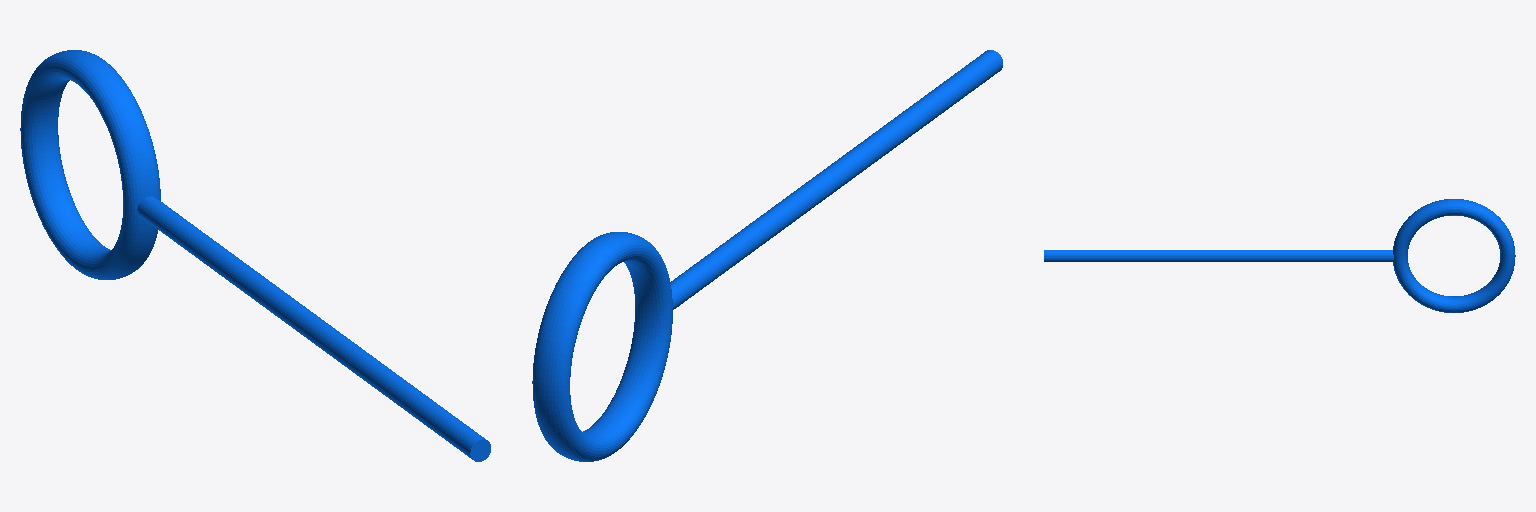
URDF robot description (ring):
<?xml version="0.0" ?>
<robot name="ring">
    <material name="blue">
        <color rgba="0.078431 0.494117 0.984313 1"/>
    </material>

    <link name="baseLink">
        <!-- from lego/lego.urdf -->
        <contact>
            <lateral_friction value="1.0"/>
            <rolling_friction value="0.0"/>
            <contact_cfm value="0.0"/>
            <contact_erp value="1.0"/>
        </contact>
        <inertial>
            <origin rpy="0 0 0" xyz="0 0 0"/>
            <mass value="0.01"/>
            <inertia ixx="1" ixy="0" ixz="0" iyy="1" iyz="0" izz="1"/>
        </inertial>
        <visual>
            <origin rpy="0 0 0" xyz="0 0 0"/>
            <geometry>
                <!--        radius: 10mm, depth: 14.5mm-->
                <mesh filename="meshes/ring_cyl.obj" scale="1 1 1"/>
                <!--        <box size="0.002 0.002 0.002"/>-->
            </geometry>
            <material name="blue"/>
        </visual>
        <collision>
            <origin rpy="0 0 0" xyz="0 0 0"/>
            <geometry>
                <mesh filename="meshes/ring_cyl_vhacd.obj" scale="1 1 1"/>
                <!--        <box size="0.002 0.002 0.002"/>-->
            </geometry>
        </collision>
    </link>

    <!-- for testing get linkstate -->
    <link name="waypoint_0">
        <!--    origin-->
        <inertial>
            <origin rpy="0 0 0" xyz="0 0 0"/>
            <mass value=".0"/>
            <inertia ixx="0." ixy="0" ixz="0" iyy="0." iyz="0" izz="0."/>
        </inertial>
    </link>

    <joint name="waypoint_joint_0" type="fixed">
        <parent link="baseLink"/>
        <child link="waypoint_0"/>
        <origin rpy="0 0 0" xyz="0 0 0"/>
    </joint>

    <link name="waypoint_1">
        <!--    middle-->
        <inertial>
            <origin rpy="0 0 0" xyz="0 0 0"/>
            <mass value=".0"/>
            <inertia ixx="0." ixy="0" ixz="0" iyy="0." iyz="0" izz="0."/>
        </inertial>
        <!--    <visual>-->
        <!--      <origin rpy="0 0 0" xyz="0 0 0"/>-->
        <!--      <geometry>-->
        <!--        <box size="0.005 0.005 0.005"/>-->
        <!--      </geometry>-->
        <!--      <material name="grey"/>-->
        <!--    </visual>-->
    </link>

    <joint name="waypoint_joint_1" type="fixed">
        <parent link="baseLink"/>
        <child link="waypoint_1"/>
        <!--    (-R, 0, 0)-->
        <origin rpy="0 0 0" xyz="-0.02 0 0"/>
    </joint>

    <link name="waypoint_2">
        <!--    left-->
        <inertial>
            <origin rpy="0 0 0" xyz="0 0 0"/>
            <mass value=".0"/>
            <inertia ixx="0." ixy="0" ixz="0" iyy="0." iyz="0" izz="0."/>
        </inertial>
    </link>

    <joint name="waypoint_joint_2" type="fixed">
        <parent link="baseLink"/>
        <child link="waypoint_2"/>
        <!--    (-sqrt(2)R/2, -sqrt(2)R/2, 0)-->
        <origin rpy="0 0 0.785398" xyz="-0.0141421 -0.0141421 0"/>
    </joint>

    <link name="waypoint_3">
        <!--    right-->
        <inertial>
            <origin rpy="0 0 0" xyz="0 0 0"/>
            <mass value=".0"/>
            <inertia ixx="0." ixy="0" ixz="0" iyy="0." iyz="0" izz="0."/>
        </inertial>
    </link>

    <joint name="waypoint_joint_3" type="fixed">
        <parent link="baseLink"/>
        <child link="waypoint_3"/>
        <!--    (-sqrt(2)R/2, sqrt(2)R/2, 0)-->
        <origin rpy="0 0 -0.785398" xyz="-0.0141421 0.0141421 0"/>
    </joint>

    <link name="waypoint_4">
        <!--    left 60deg-->
        <inertial>
            <origin rpy="0 0 0" xyz="0 0 0"/>
            <mass value=".0"/>
            <inertia ixx="0." ixy="0" ixz="0" iyy="0." iyz="0" izz="0."/>
        </inertial>
    </link>

    <joint name="waypoint_joint_4" type="fixed">
        <parent link="baseLink"/>
        <child link="waypoint_4"/>
        <!--    -cos(60)*R, -sin(60)*R, 0)-->
        <origin rpy="0 0 1.047197" xyz="-0.0100000 -0.0173205 0"/>
    </joint>

    <link name="waypoint_5">
        <!--    right 60deg-->
        <inertial>
            <origin rpy="0 0 0" xyz="0 0 0"/>
            <mass value=".0"/>
            <inertia ixx="0." ixy="0" ixz="0" iyy="0." iyz="0" izz="0."/>
        </inertial>
    </link>

    <joint name="waypoint_joint_5" type="fixed">
        <parent link="baseLink"/>
        <child link="waypoint_5"/>
        <!--    -cos(60)*R, sin(60)*R, 0)-->
        <origin rpy="0 0 -1.047198" xyz="-0.0100000 0.0173205 0"/>
    </joint> 
</robot>

--- Render facts (derived) ---
Views: 3 orthographic renders of the robot side by side, from view 1: azimuth 30°, elevation 25°; view 2: azimuth 150°, elevation 25°; view 3: azimuth 270°, elevation 25°.
Model ring with 7 links and 6 joints (6 fixed), rooted at baseLink, posed every joint at zero.
Links seen in each view (by area): view 1: baseLink; view 2: baseLink; view 3: baseLink.
Link boxes in pixels (left/top/right/bottom): baseLink: left=20, top=50, right=490, bottom=461; baseLink: left=532, top=50, right=1002, bottom=461; baseLink: left=1044, top=199, right=1515, bottom=312.
Size in the robot's own frame: 0.2261 by 5.12 by 1.34 metres.
Meshes: 1 distinct files referenced, 1 mesh visuals loaded (1 OBJ).